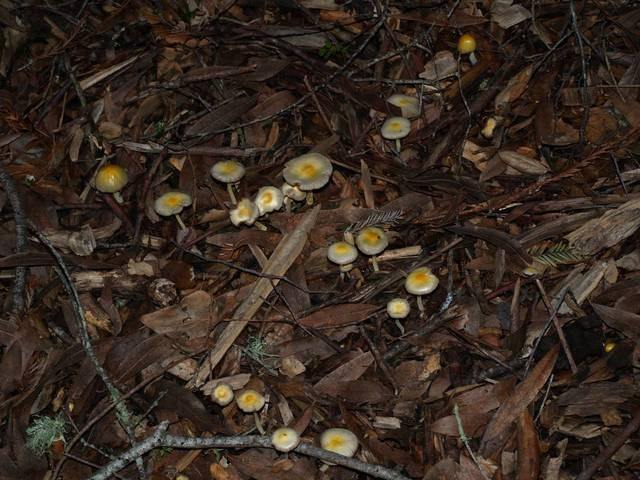Edible Mushroom: (326, 214, 393, 279), (223, 186, 291, 228), (277, 152, 335, 196), (210, 379, 261, 416), (402, 261, 441, 306), (209, 158, 245, 203), (153, 190, 192, 229), (319, 427, 358, 457), (380, 115, 410, 152), (94, 164, 128, 193), (270, 426, 299, 452)
